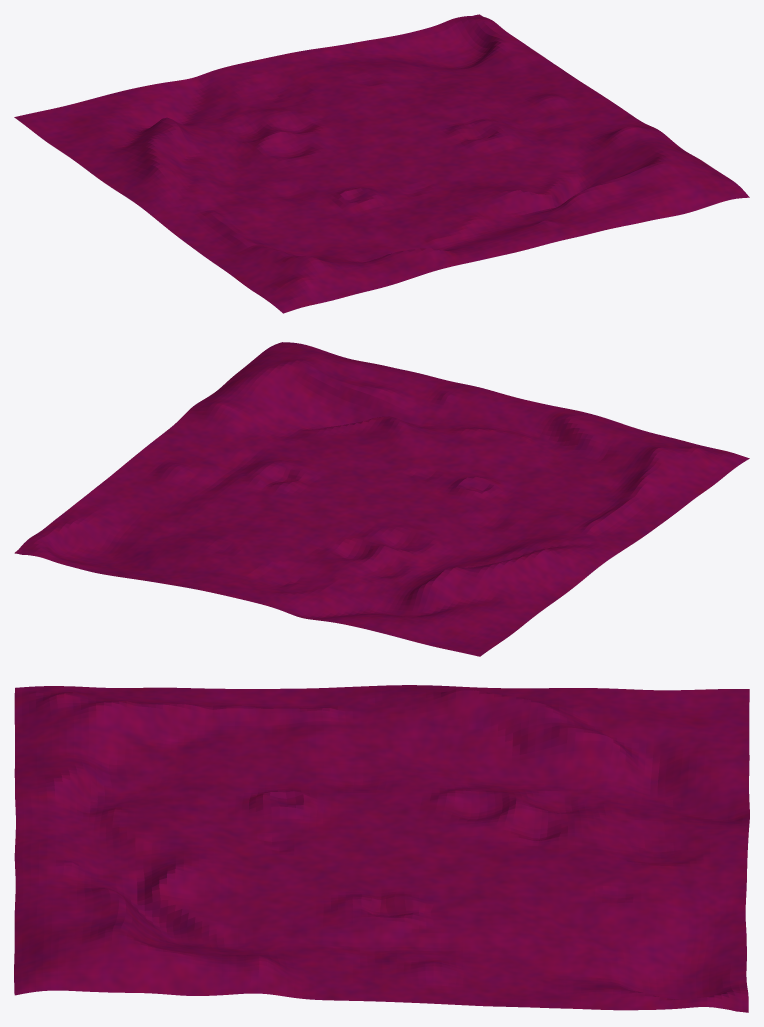
The model's file is groundplane.glb.
The picture shows the model from 3 angles, top to bottom: view 1: azimuth 30°, elevation 25°; view 2: azimuth 150°, elevation 25°; view 3: azimuth 270°, elevation 25°; orthographic projection. The views are drawn at different scales.
Visible parts, largest first — view 1: Plane; view 2: Plane; view 3: Plane.
Part boxes in pixels (box(x1,y1,x2,y2)): Plane: box(14, 14, 749, 313); Plane: box(14, 342, 749, 656); Plane: box(14, 685, 749, 1012).
Size of the model in its own units: 200 by 18.86 by 200.
1 material, 1 textured.
